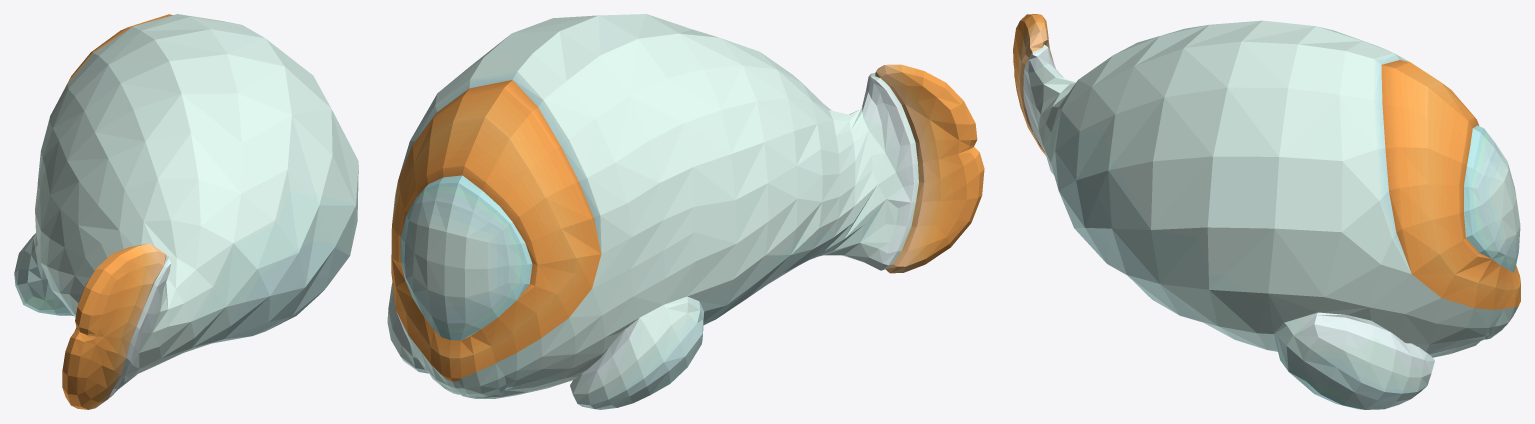
The model's file is CharSkyKid_Hat_AP27ManateeChibi.glb.
3 views of the same model, side by side, from view 1: azimuth 30°, elevation 25°; view 2: azimuth 150°, elevation 25°; view 3: azimuth 270°, elevation 25° (orthographic). The views are drawn at different scales.
Visible parts, largest first — view 1: CharSkyKid_Hat_AP27ManateeChibi; view 2: CharSkyKid_Hat_AP27ManateeChibi; view 3: CharSkyKid_Hat_AP27ManateeChibi.
Boxes of the visible parts, x1=… form: CharSkyKid_Hat_AP27ManateeChibi: x1=14, y1=14, x2=358, y2=409; CharSkyKid_Hat_AP27ManateeChibi: x1=387, y1=14, x2=984, y2=409; CharSkyKid_Hat_AP27ManateeChibi: x1=1013, y1=14, x2=1520, y2=409.
Bounding box in the file's own units: 1.5 × 1.09 × 1.58.
Materials: 1 (1 with a texture image).
